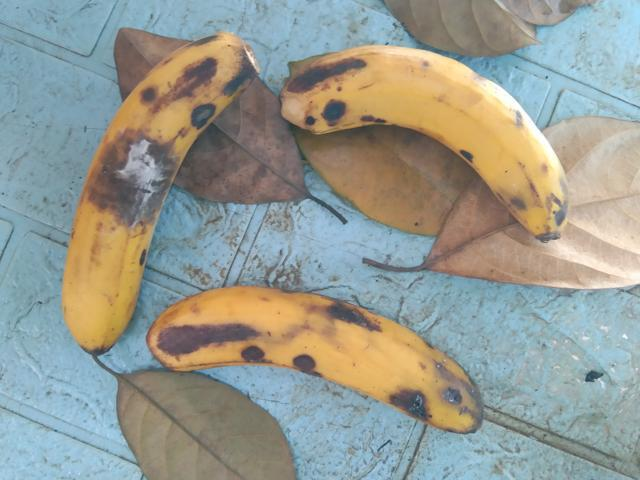overripe: (50, 21, 261, 361), (148, 273, 519, 456)
ripe: (277, 26, 597, 277)
rotten: (72, 124, 196, 253)
